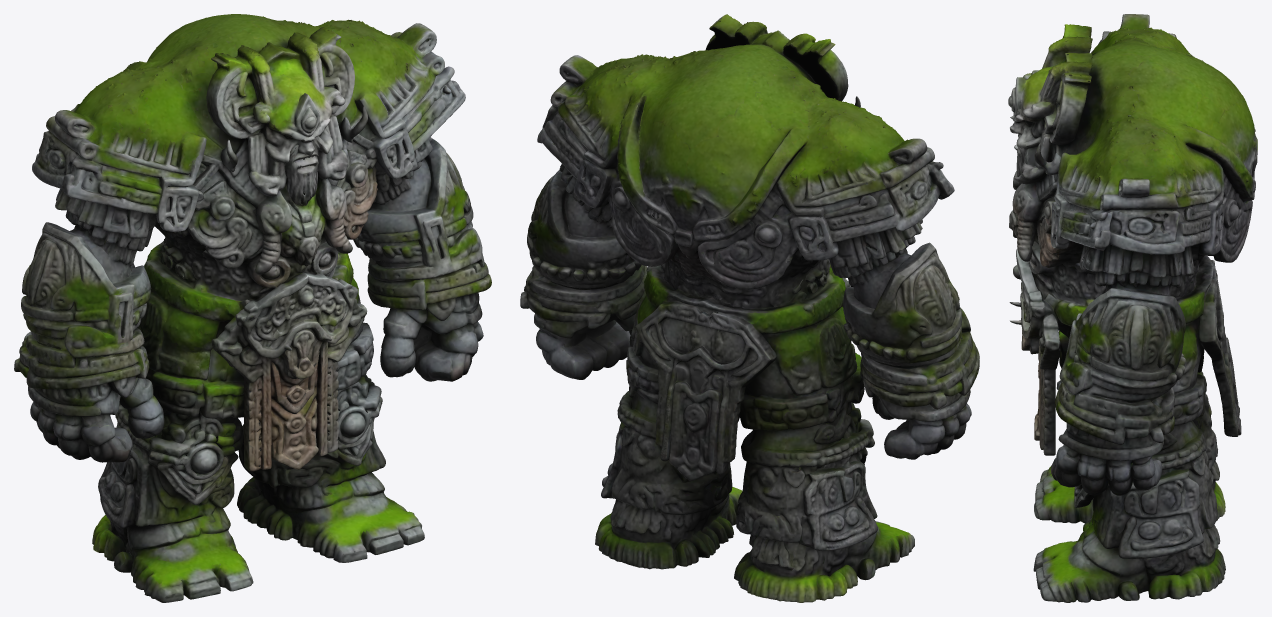
File: sample_2026-08-16T104446.661.glb
3 renders of one model, left to right at view 1: azimuth 30°, elevation 25°; view 2: azimuth 150°, elevation 25°; view 3: azimuth 270°, elevation 25°, orthographic. The views are drawn at different scales.
Parts seen in each view (by area): view 1: geometry_0; view 2: geometry_0; view 3: geometry_0.
Boxes of the visible parts, x1,y1,x2,y2 form: geometry_0: (14, 14, 491, 602); geometry_0: (520, 14, 979, 602); geometry_0: (1008, 14, 1257, 602).
Bounding box in the file's own units: 0.9008 × 0.9867 × 0.4544.
1 material, 1 textured.
